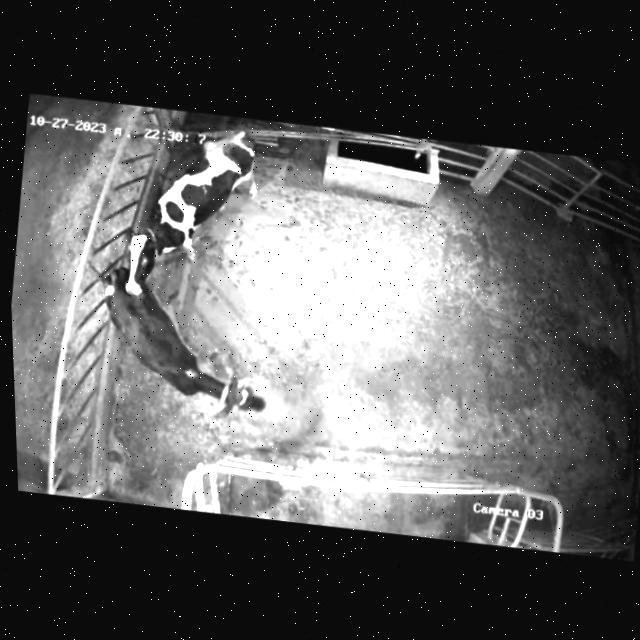propping: (79, 216, 177, 338)
stand: (77, 260, 285, 438)
